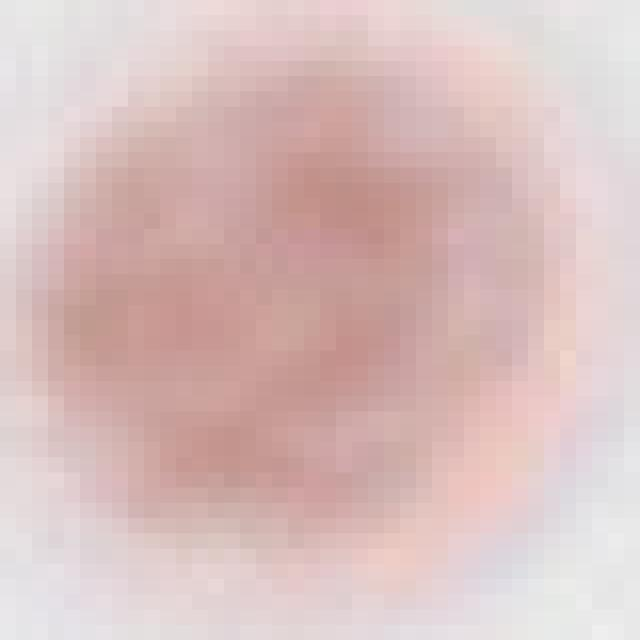cytoplasm: (10, 5, 624, 625)
